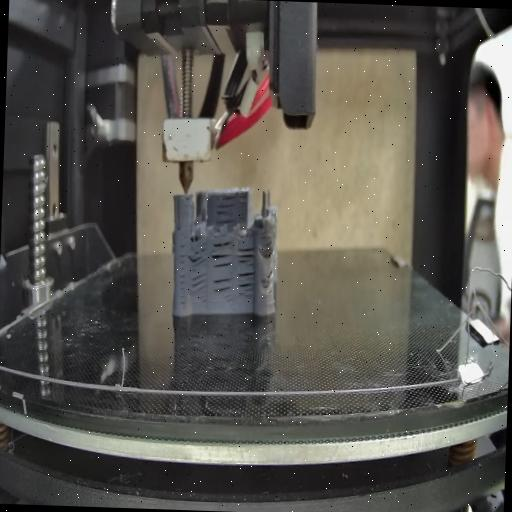cracks: (215, 188, 238, 228), (211, 240, 234, 270), (176, 247, 188, 304), (210, 275, 232, 304), (238, 270, 256, 300), (189, 268, 206, 298), (187, 242, 206, 266), (235, 246, 256, 266), (262, 236, 274, 258), (264, 268, 274, 282), (176, 220, 182, 236)
